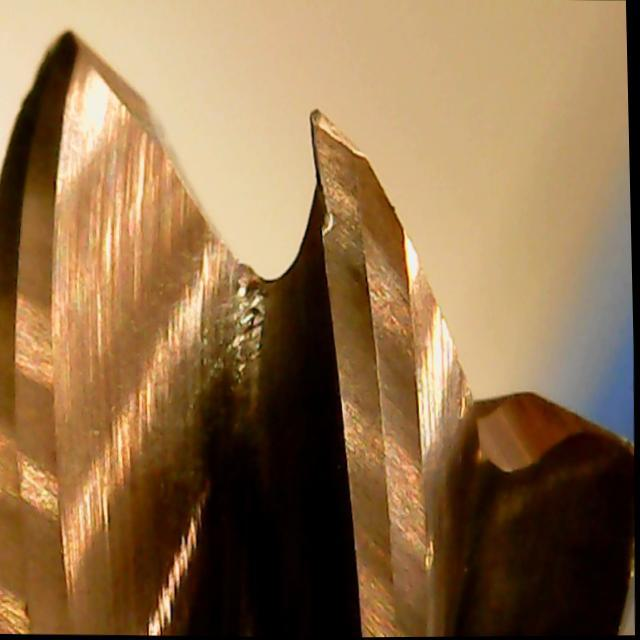Tool-wear-class-1: (288, 104, 414, 380)
